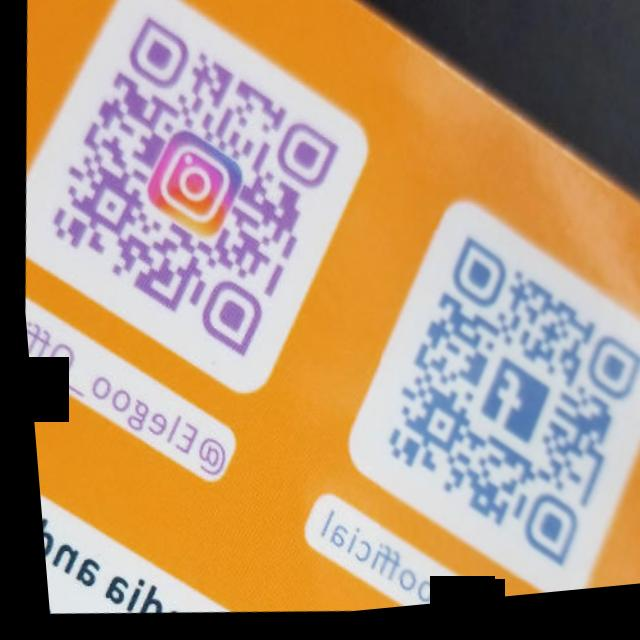QR_CODE: (13, 0, 378, 420), (348, 217, 640, 609)
